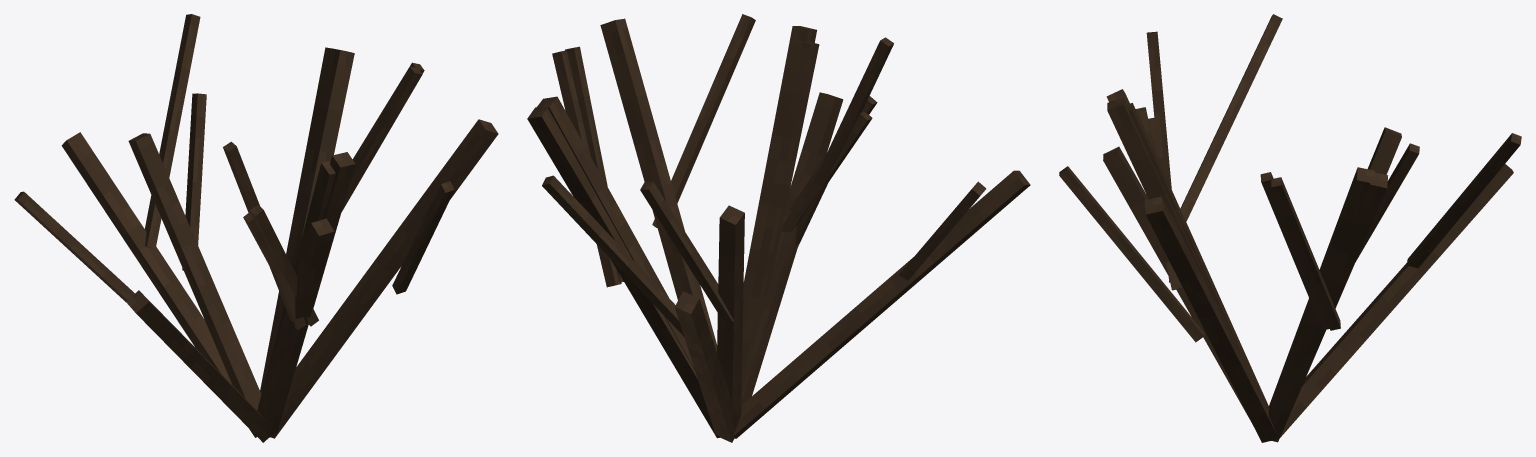
Rendered from nat_dead_bush.glb.
The picture shows the model from 3 angles, left to right: view 1: azimuth 30°, elevation 25°; view 2: azimuth 150°, elevation 25°; view 3: azimuth 270°, elevation 25°; orthographic projection. The views are drawn at different scales.
Parts seen in each view (by area): view 1: twig_1, twig_3, twig_0, twig_6, twig_2, twig_8, twig_b0, twig_b3, twig_b2, twig_b8, twig_b1, twig_b6 (+5 smaller); view 2: twig_8, twig_5, twig_1, twig_4, twig_6, twig_3, twig_0, twig_2, twig_b0, twig_b1, twig_b6, twig_b3 (+5 smaller); view 3: twig_1, twig_0, twig_4, twig_b1, twig_2, twig_7, twig_6, twig_b8, twig_b0, twig_b4, twig_5, twig_b6 (+4 smaller).
Part boxes in pixels (x1=…): twig_1: x1=270, y1=119, x2=498, y2=438; twig_3: x1=128, y1=133, x2=261, y2=409; twig_0: x1=61, y1=132, x2=256, y2=437; twig_6: x1=257, y1=218, x2=334, y2=437; twig_2: x1=260, y1=48, x2=354, y2=393; twig_8: x1=126, y1=290, x2=268, y2=442; twig_b0: x1=145, y1=14, x2=200, y2=248; twig_b3: x1=182, y1=93, x2=206, y2=270; twig_b2: x1=341, y1=66, x2=422, y2=211; twig_b8: x1=14, y1=191, x2=134, y2=301; twig_b1: x1=392, y1=181, x2=454, y2=294; twig_b6: x1=223, y1=141, x2=306, y2=329; twig_8: x1=733, y1=170, x2=1030, y2=438; twig_5: x1=741, y1=40, x2=819, y2=393; twig_1: x1=600, y1=18, x2=717, y2=352; twig_4: x1=527, y1=105, x2=720, y2=438; twig_6: x1=741, y1=92, x2=843, y2=404; twig_3: x1=717, y1=205, x2=744, y2=420; twig_0: x1=675, y1=291, x2=738, y2=442; twig_2: x1=535, y1=96, x2=720, y2=437; twig_b0: x1=542, y1=175, x2=684, y2=336; twig_b1: x1=652, y1=14, x2=755, y2=227; twig_b6: x1=795, y1=37, x2=893, y2=246; twig_b3: x1=640, y1=181, x2=733, y2=322; twig_1: x1=1144, y1=196, x2=1276, y2=442; twig_0: x1=1276, y1=164, x2=1513, y2=440; twig_4: x1=1269, y1=171, x2=1388, y2=442; twig_b1: x1=1059, y1=166, x2=1204, y2=342; twig_2: x1=1268, y1=167, x2=1374, y2=417; twig_7: x1=1107, y1=97, x2=1227, y2=326; twig_6: x1=1103, y1=146, x2=1249, y2=419; twig_b8: x1=1180, y1=14, x2=1282, y2=221; twig_b0: x1=1406, y1=133, x2=1521, y2=268; twig_b4: x1=1271, y1=177, x2=1340, y2=330; twig_5: x1=1127, y1=103, x2=1268, y2=406; twig_b6: x1=1146, y1=31, x2=1171, y2=282.
Size of the model in its own units: 1.38 by 1.13 by 1.3.
1 material, 1 textured.
